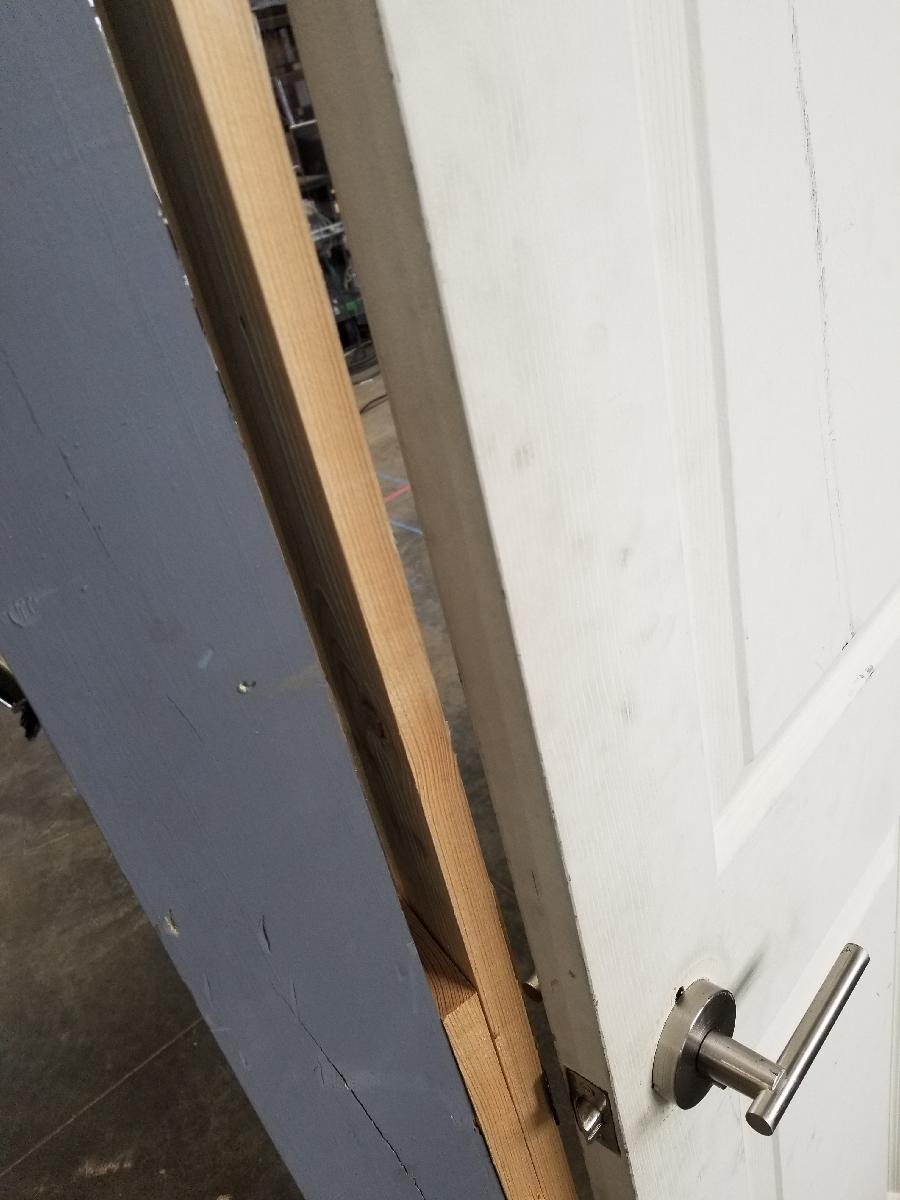doorHandle: (642, 936, 873, 1138)
